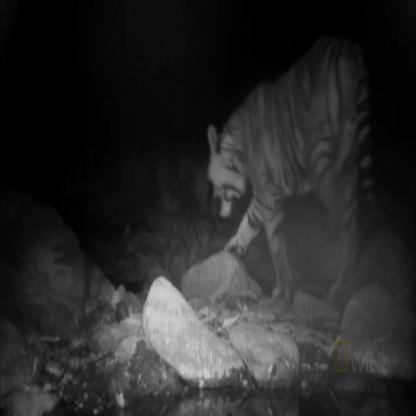Tiger: (197, 42, 385, 291)
